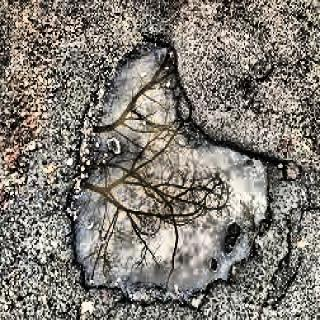pothole: (65, 32, 282, 310)
